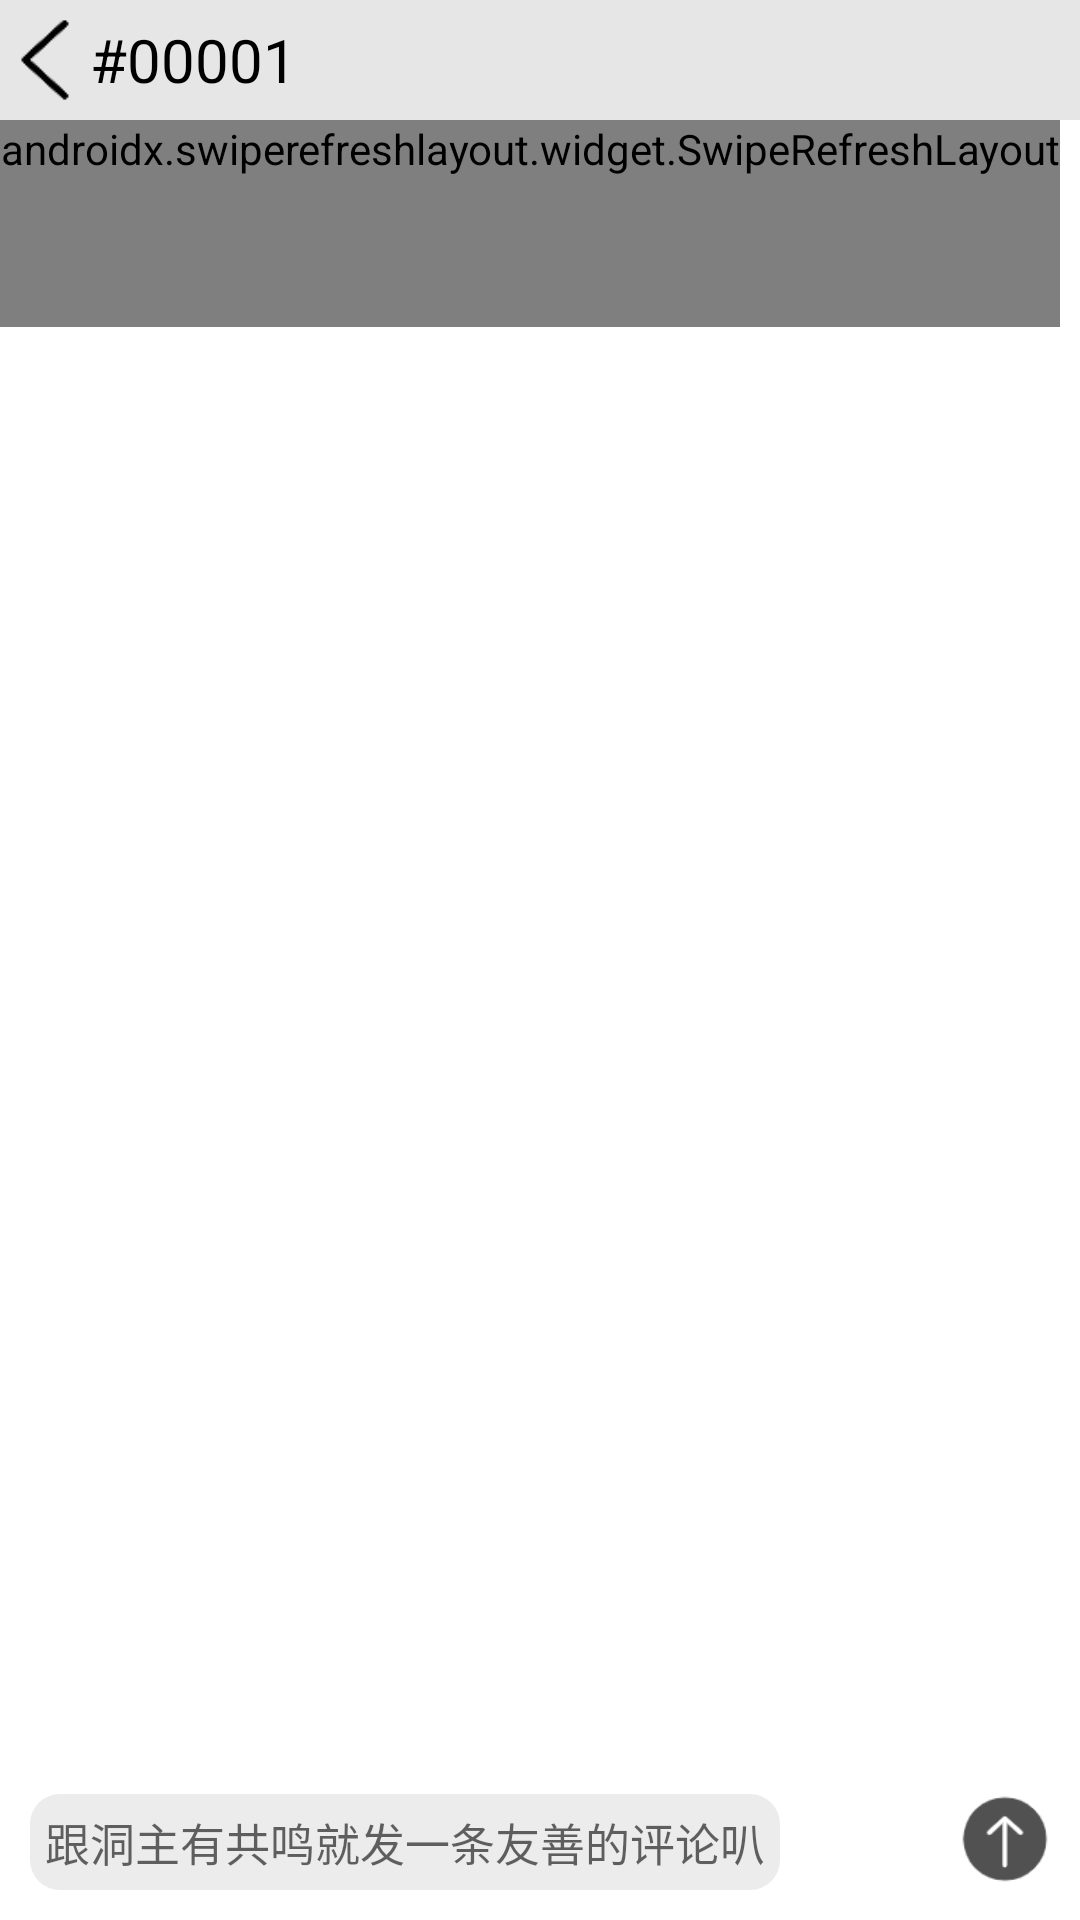

Point at icon controls on the screen. Image size 1080 × 1920, points as (x=x, y=y).
back: (x=45, y=60)
sendcomment: (x=1004, y=1839)
